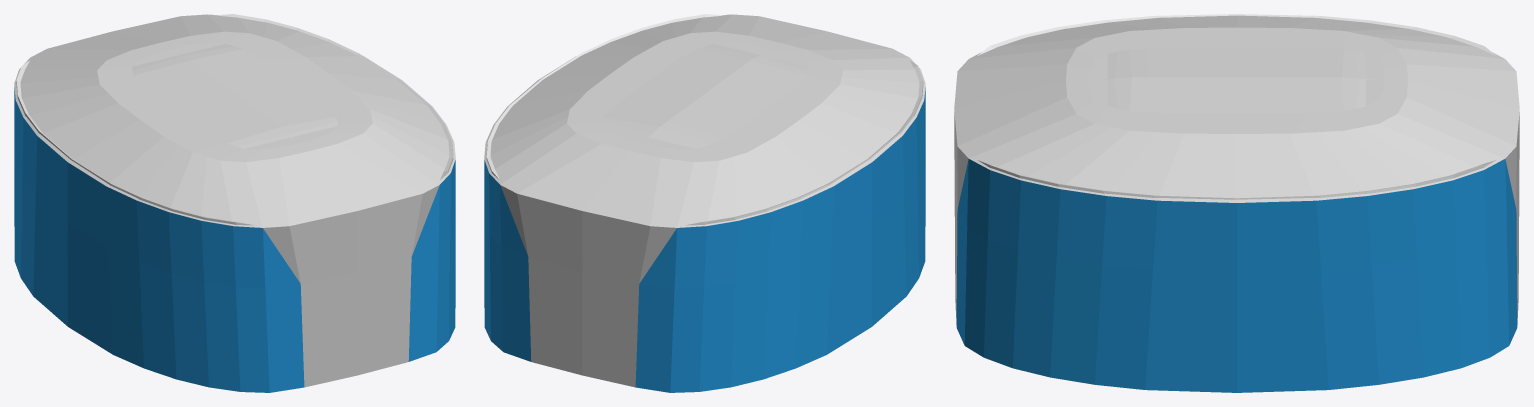
Rendered from MS_Lvel1.fbx.
3 views of the same model, side by side, from view 1: azimuth 30°, elevation 25°; view 2: azimuth 150°, elevation 25°; view 3: azimuth 270°, elevation 25° (orthographic). The views are drawn at different scales.
Visible parts, largest first — view 1: Plane; view 2: Plane; view 3: Plane.
Part boxes in pixels (x1,y1,x2,y2): Plane: [14, 14, 455, 392]; Plane: [484, 14, 925, 392]; Plane: [954, 14, 1519, 392].
Bounding box in the file's own units: 6376 × 3872 × 8089.
